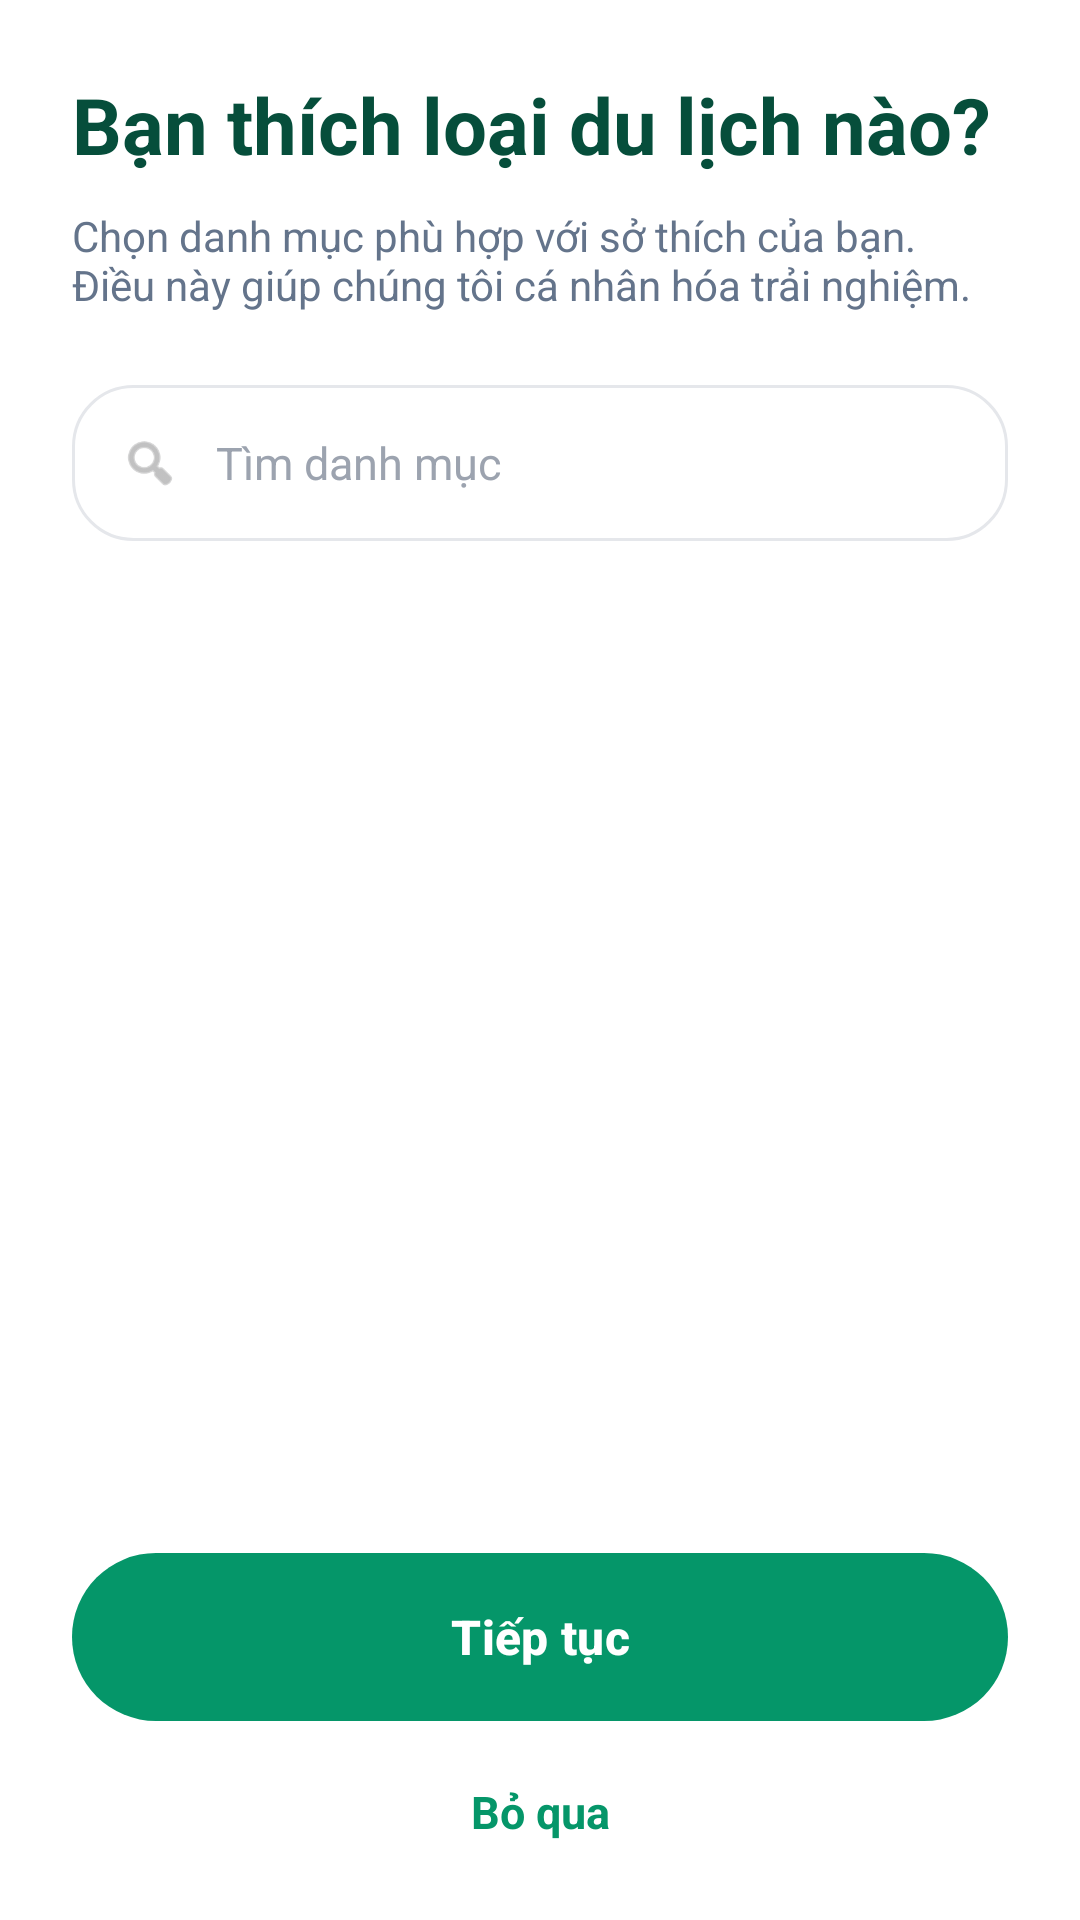

Screen size 1080px x 1920px. Icon name, then its box in pixels as (x1, y1, x2, y2):
search: (128, 441, 172, 485)
